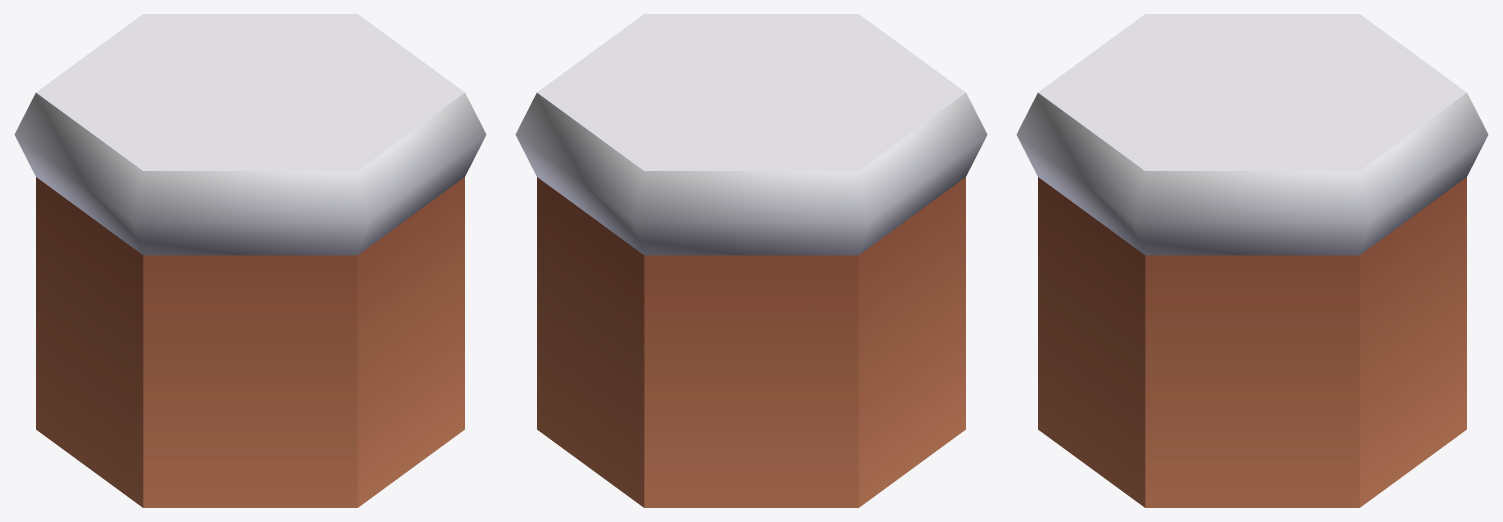
File: kenney-platformer-block-snow-hexagon.glb
The picture shows the model from 3 angles, left to right: view 1: azimuth 30°, elevation 25°; view 2: azimuth 150°, elevation 25°; view 3: azimuth 270°, elevation 25°; orthographic projection.
Visible parts, largest first — view 1: block-snow-hexagon; view 2: block-snow-hexagon; view 3: block-snow-hexagon.
Part boxes in pixels (box(x1,y1,x2,y2)): block-snow-hexagon: box(14, 14, 486, 507); block-snow-hexagon: box(515, 14, 987, 507); block-snow-hexagon: box(1016, 14, 1488, 507).
Bounding box in the file's own units: 1.1 × 1 × 1.27.
Materials: 1 (1 with a texture image).
